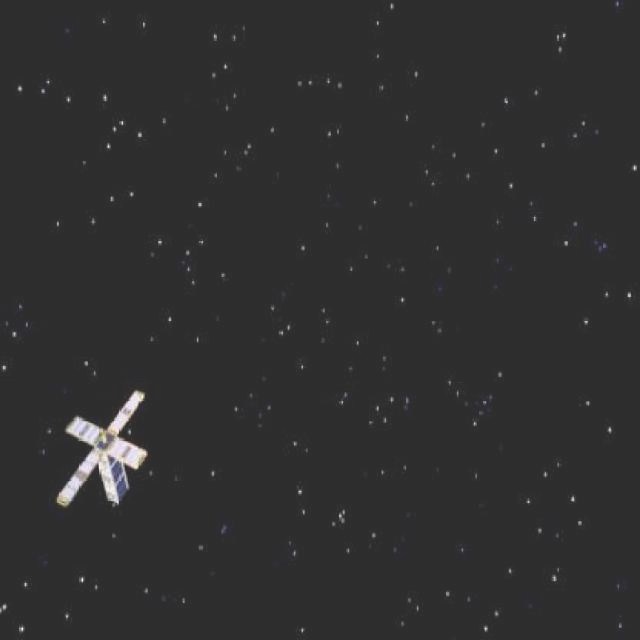satellite: (38, 394, 167, 519)
